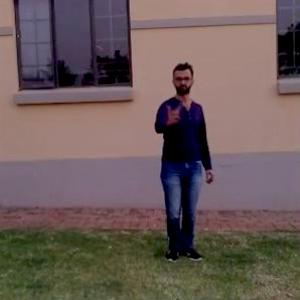takeoff-hand: (156, 91, 188, 135)
